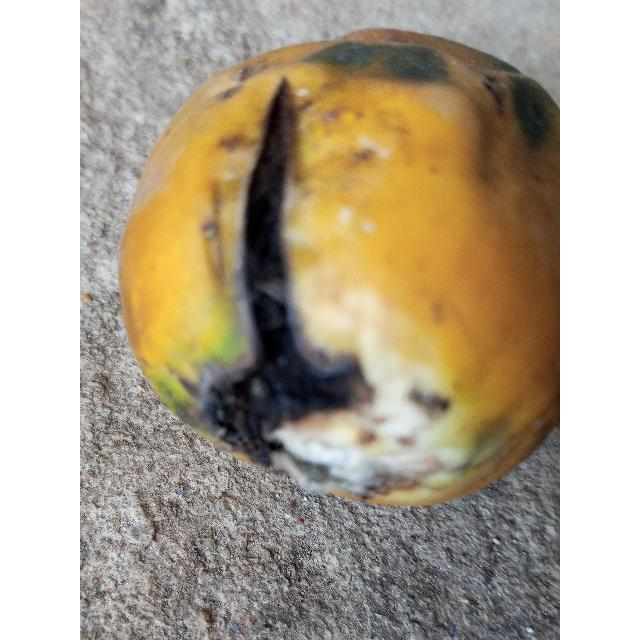damaged: (120, 30, 560, 505)
